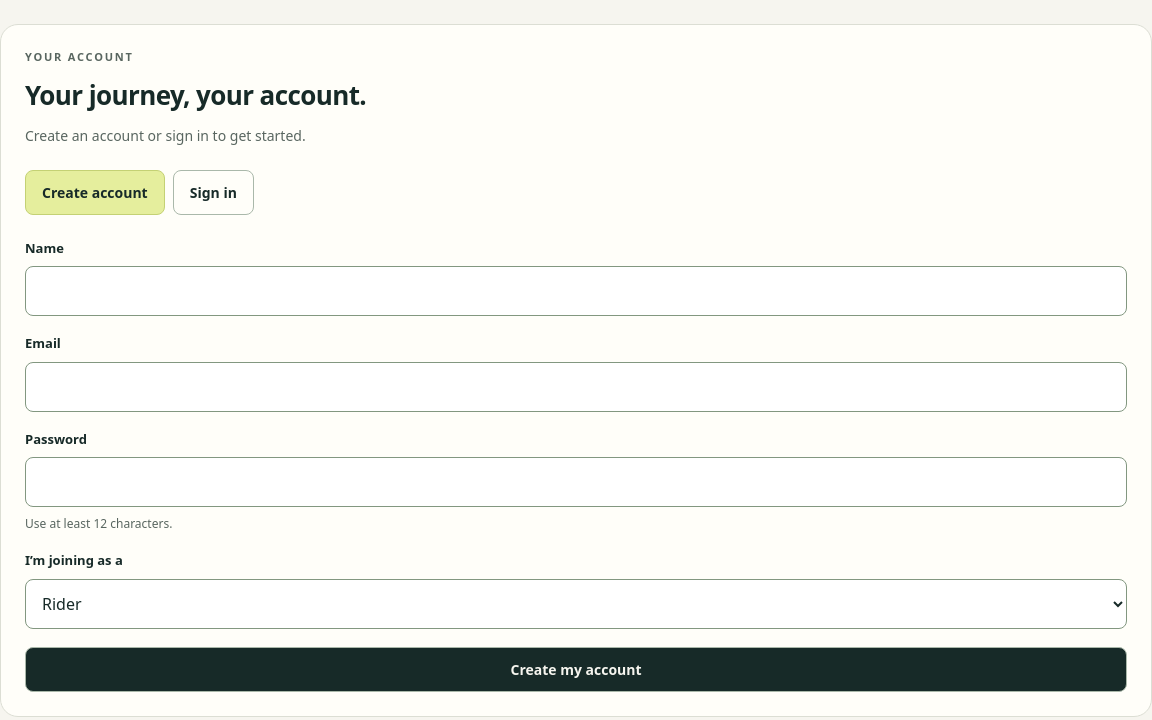
Test: an explicit failed sign-in focuses its error feedback without discarding the email
Click the button "Sign in". click: (213, 192)
box: x1=173 y1=170 x2=254 y2=214
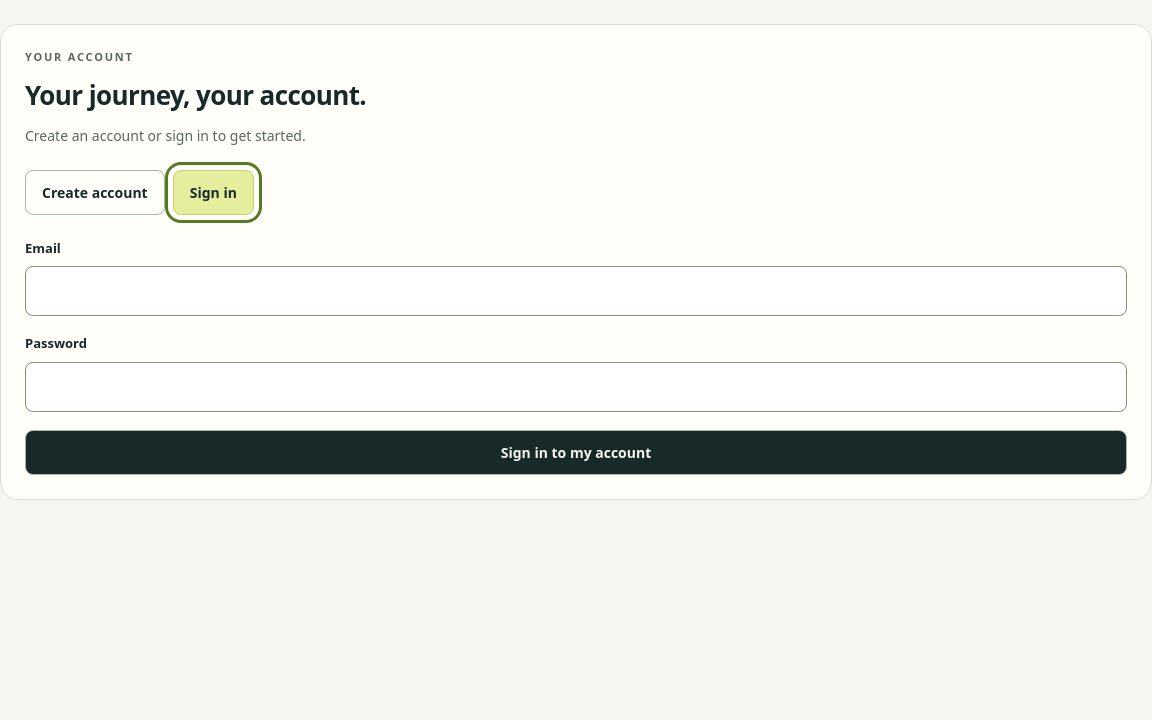
Type "rider@example.com" into the field labelled "Email". click: (576, 291)
box: x1=25 y1=266 x2=1127 y2=316
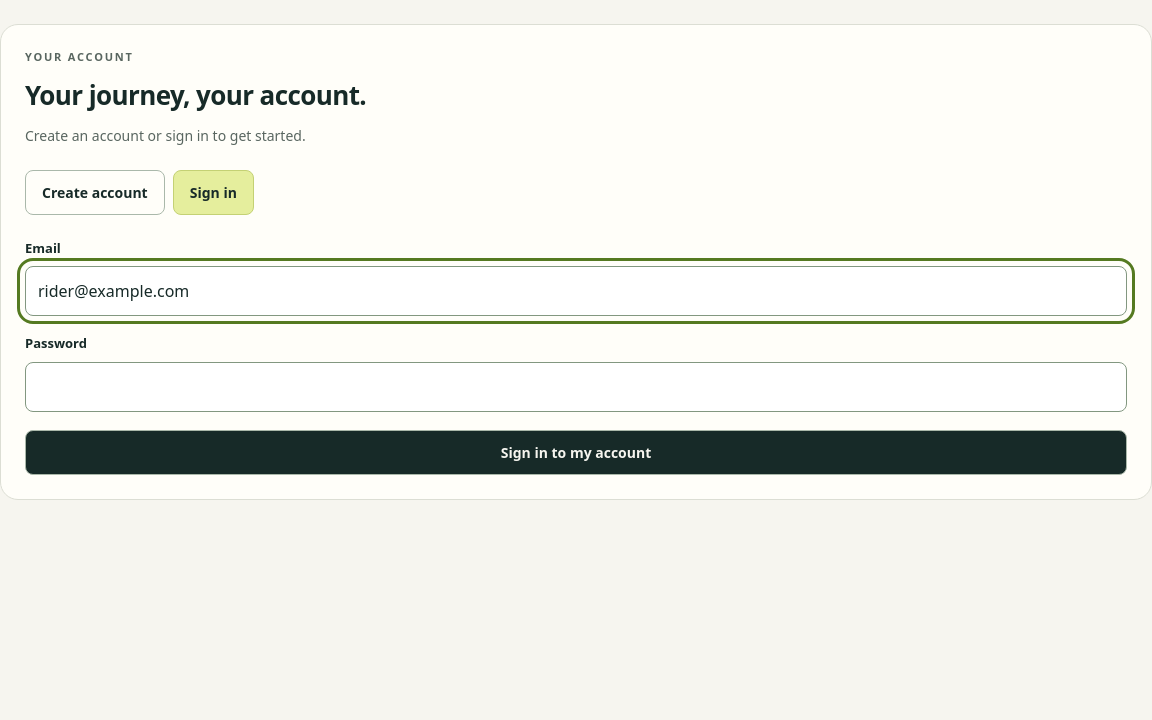
Type "wrong-password" into the password field labelled "Password". click: (576, 386)
box: x1=25 y1=362 x2=1127 y2=412
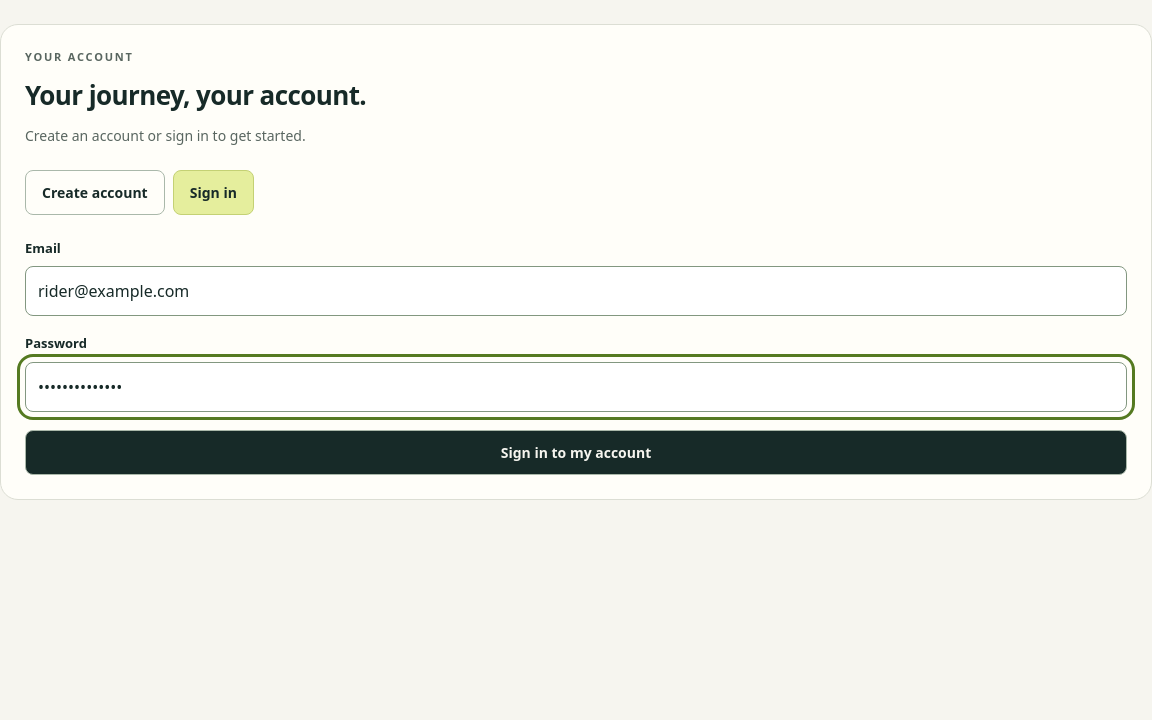
Press Enter
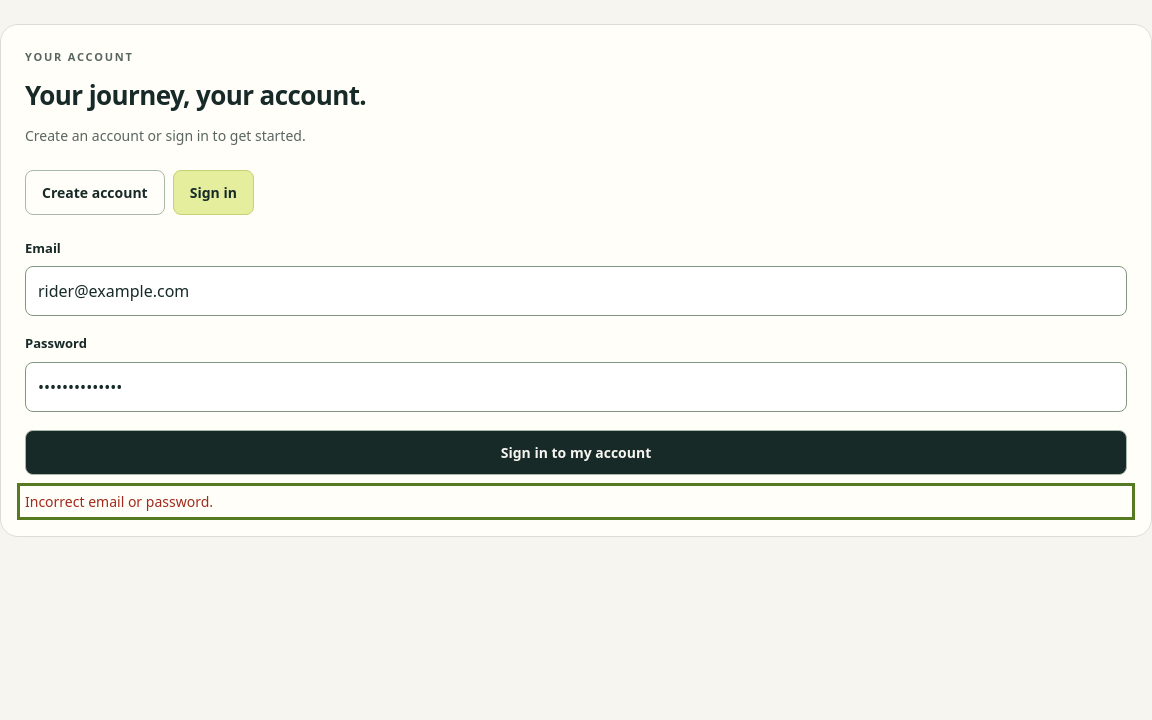
Check: the message reads "Incorrect email or password.", box x1=25 y1=492 x2=213 y2=510
